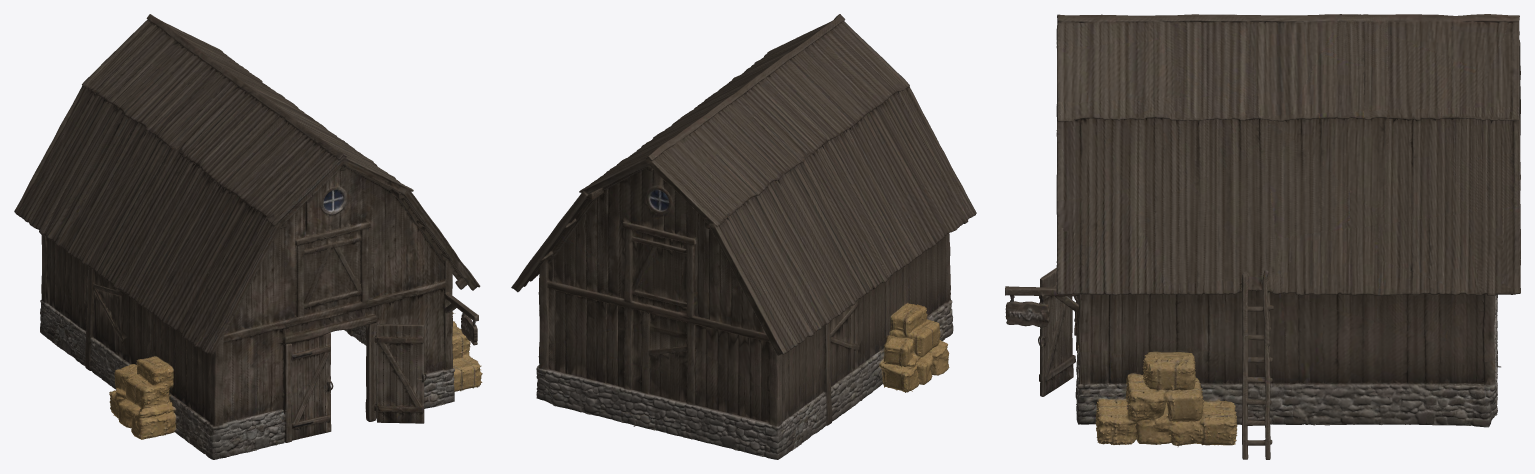
The model's file is barn.glb.
3 views of the same model, side by side, from view 1: azimuth 30°, elevation 25°; view 2: azimuth 150°, elevation 25°; view 3: azimuth 270°, elevation 25° (orthographic). The views are drawn at different scales.
Visible parts, largest first — view 1: mesh_node; view 2: mesh_node; view 3: mesh_node.
Part boxes in pixels (left/top/right/bottom): mesh_node: left=14, top=14, right=482, bottom=459; mesh_node: left=511, top=14, right=976, bottom=459; mesh_node: left=1005, top=14, right=1520, bottom=459.
Bounding box in the file's own units: 1.7 × 1.4 × 1.9.
Materials: 1 (1 with a texture image).
